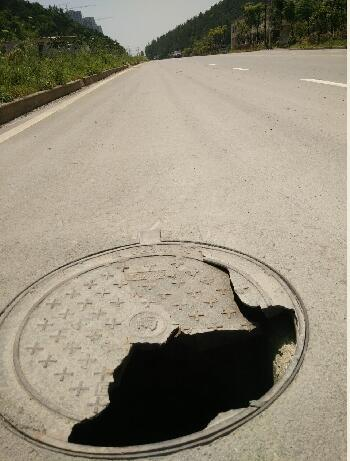wellcover: (3, 223, 325, 461)
